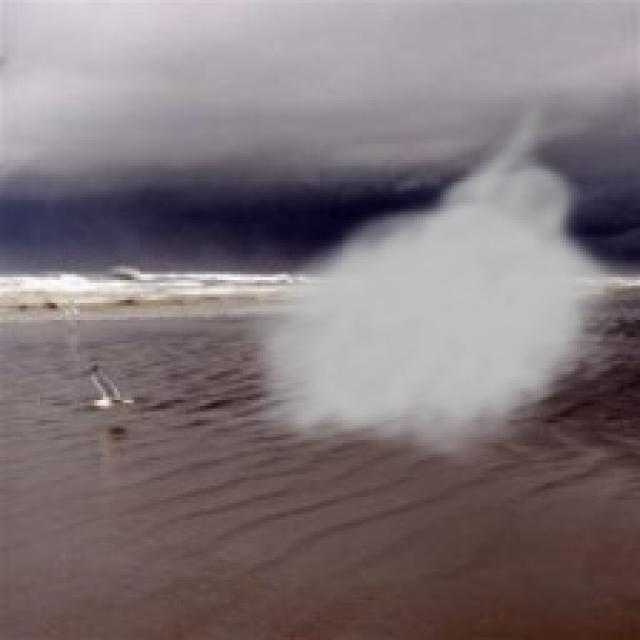smoke: (223, 88, 628, 466)
